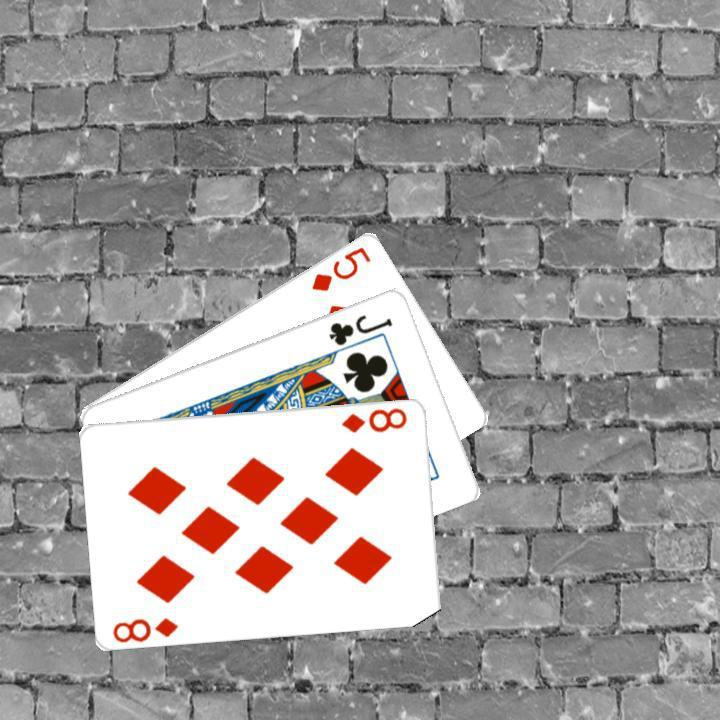5: (307, 241, 373, 293)
8: (337, 403, 409, 434), (109, 613, 181, 643)
J: (325, 309, 395, 347)
